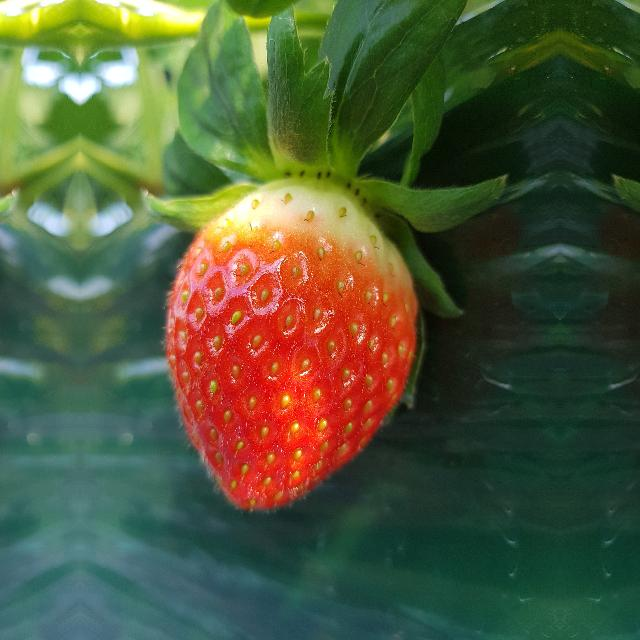Health_75: (160, 176, 418, 514)
